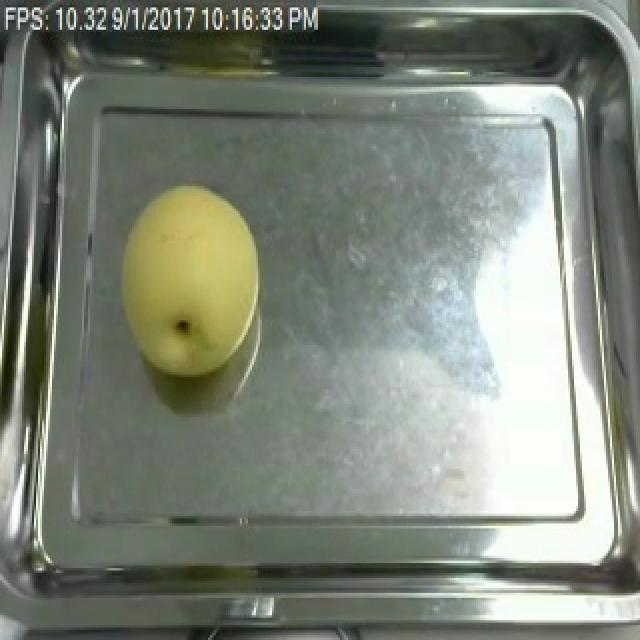Fruit: (110, 176, 268, 385)
